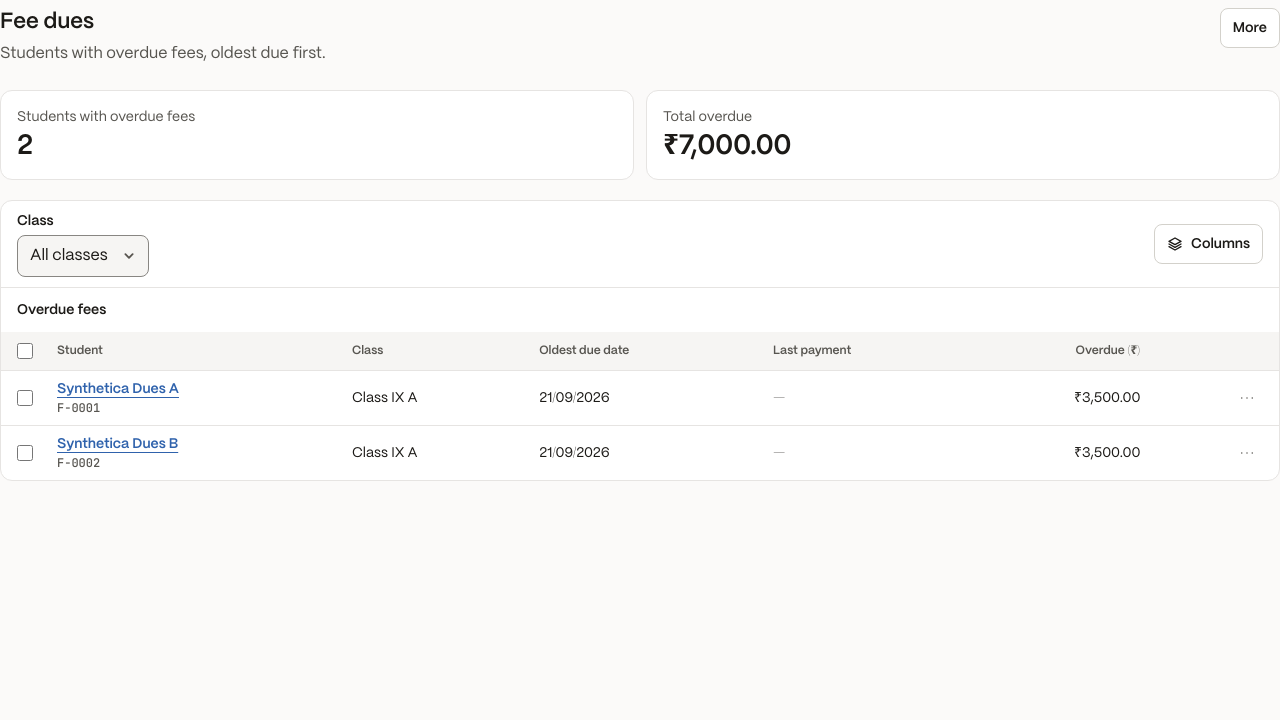
it: Send reminder from the dues list (FR-MSG-025) › keeps the send button disabled when sending is blocked
The image size is (1280, 720).
Click the checkbox named "Select Synthetica Dues B".
click(25, 453)  # box [17,445,33,461]
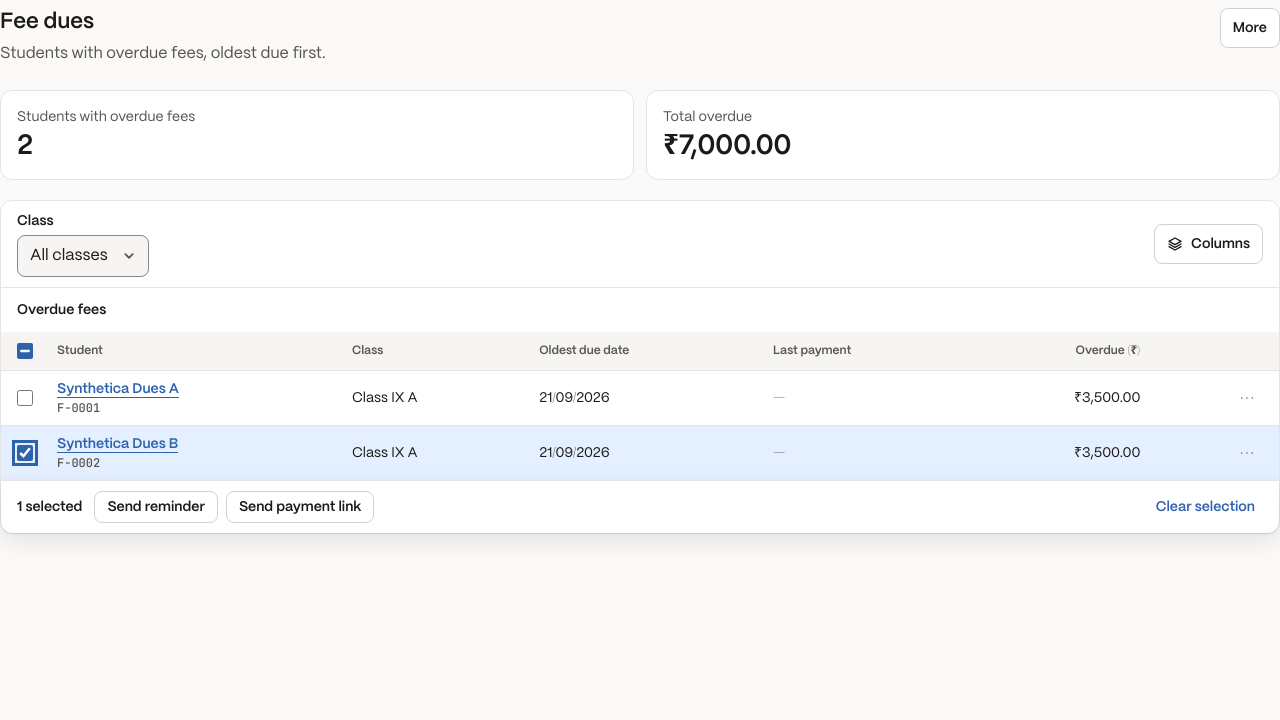
Click the button "Send reminder".
click(156, 507)  # box [94,491,218,523]
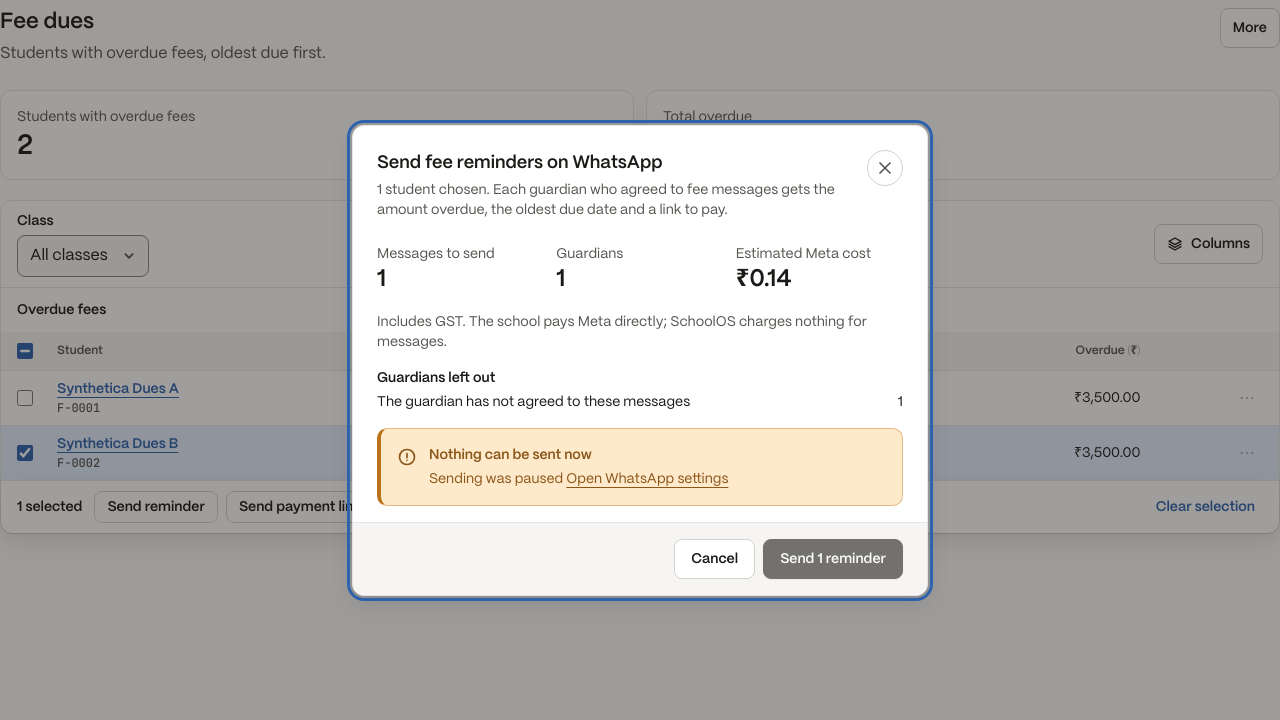
Expected: the text "Nothing can be sent now" is shown, [429,448,592,462]
Expected: the button "Send 1 reminder" is disabled, [763,538,903,578]
